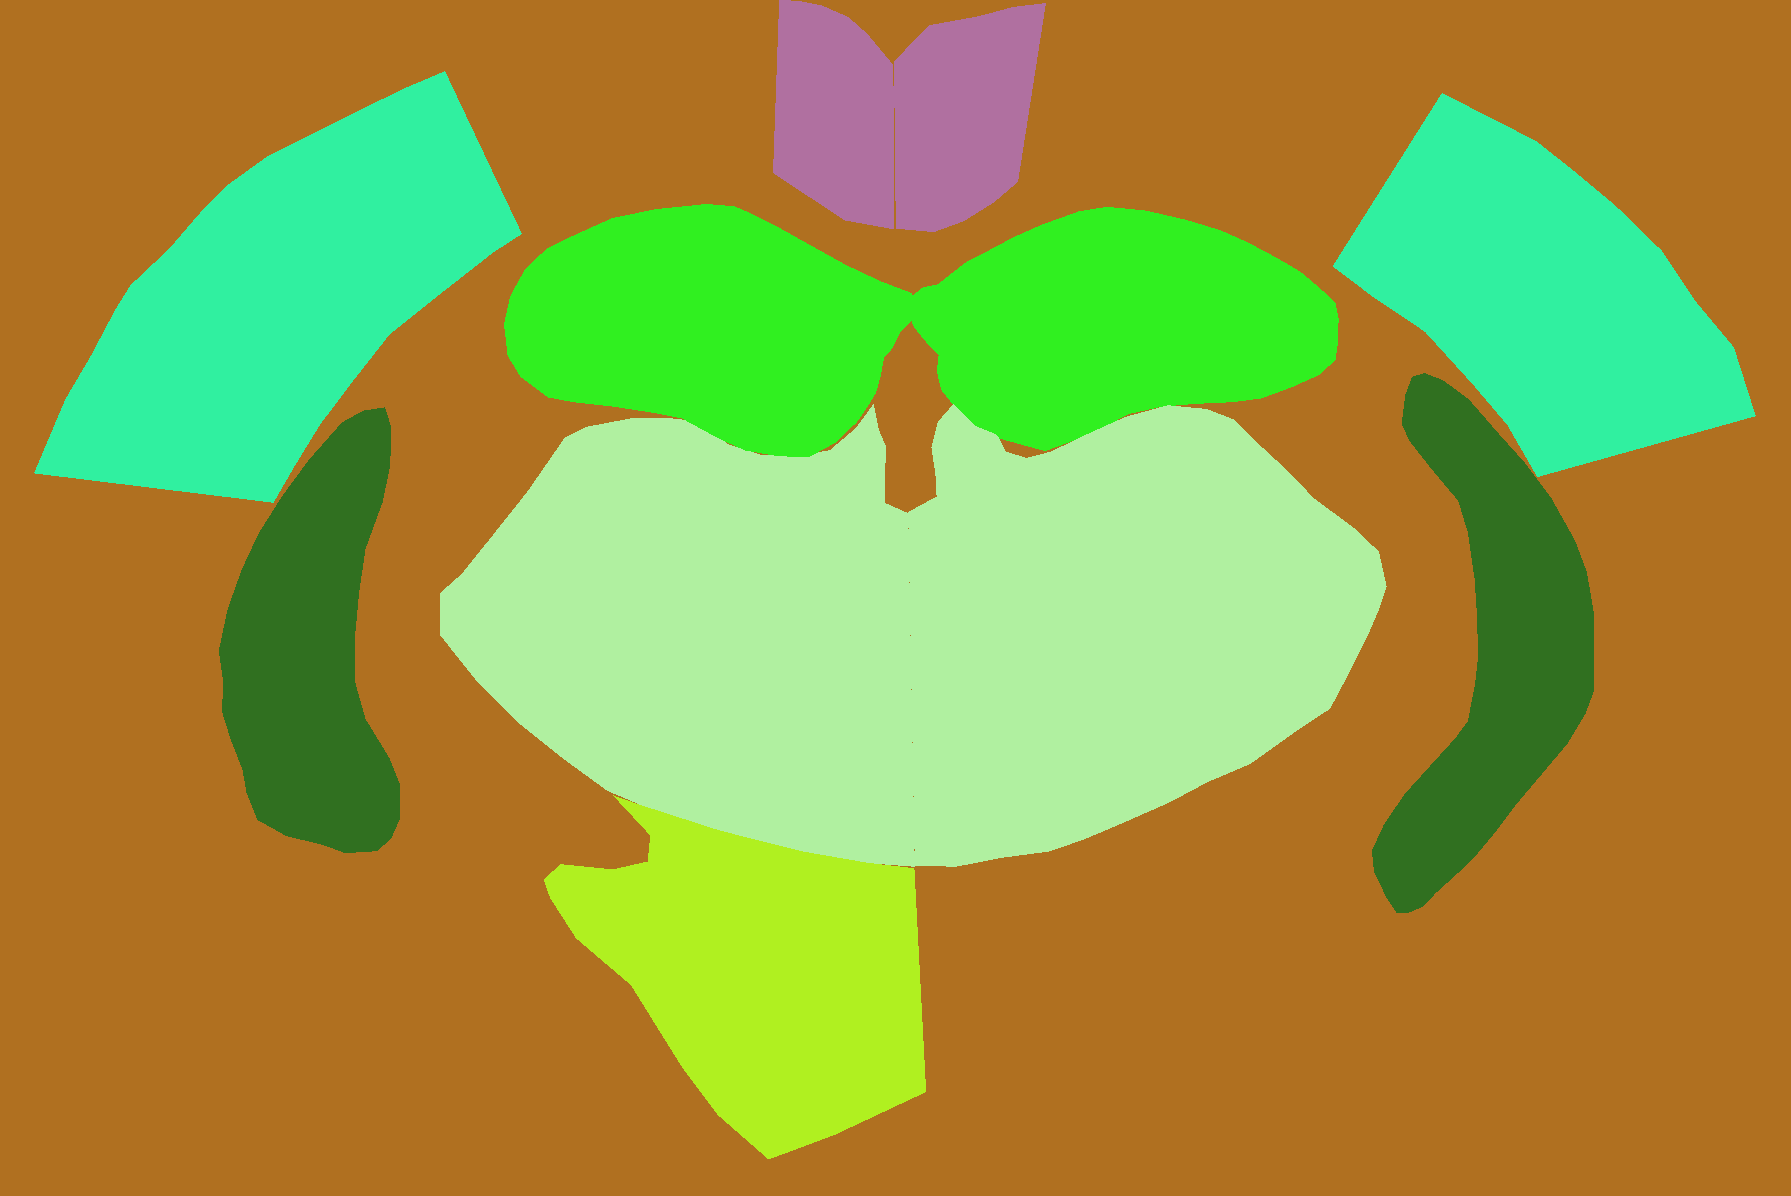Cerebral nuclei: (1372, 372, 1595, 913), (219, 407, 400, 853)
Hippocampal formation: (908, 207, 1339, 451), (504, 204, 912, 457)
Hypothalamus: (545, 796, 928, 1159)
Retrosplenial area: (894, 3, 1046, 232), (773, 0, 894, 230)
Somatosensory area: (33, 71, 522, 503), (1333, 93, 1756, 477)
Thalamus: (908, 404, 1387, 868), (440, 404, 916, 868)
